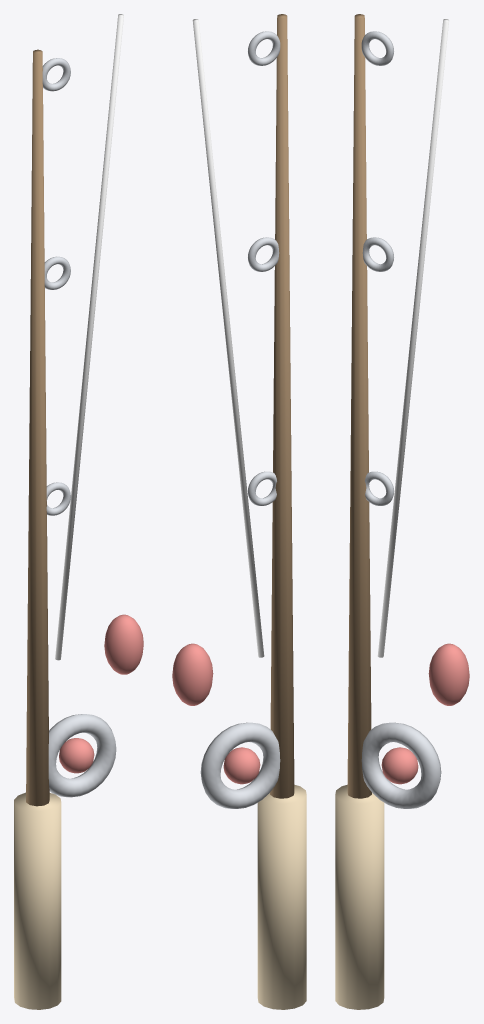
File: VTool_Rod.fbx
The picture shows the model from 3 angles, left to right: view 1: azimuth 30°, elevation 25°; view 2: azimuth 210°, elevation 25°; view 3: azimuth 330°, elevation 25°; orthographic projection. The views are drawn at different scales.
Parts seen in each view (by area): view 1: VTool_Rod; view 2: VTool_Rod; view 3: VTool_Rod.
Boxes of the visible parts, box(x1,y1,x2,y2) form: VTool_Rod: box(14, 14, 143, 1009); VTool_Rod: box(172, 14, 306, 1009); VTool_Rod: box(335, 14, 469, 1009).
Bounding box in the file's own units: 0.1434 × 1.07 × 0.048.
